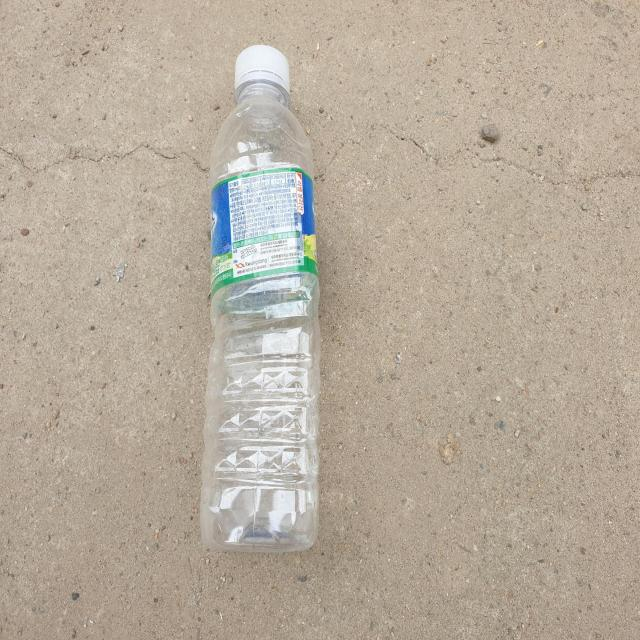plastic: (200, 44, 321, 552)
